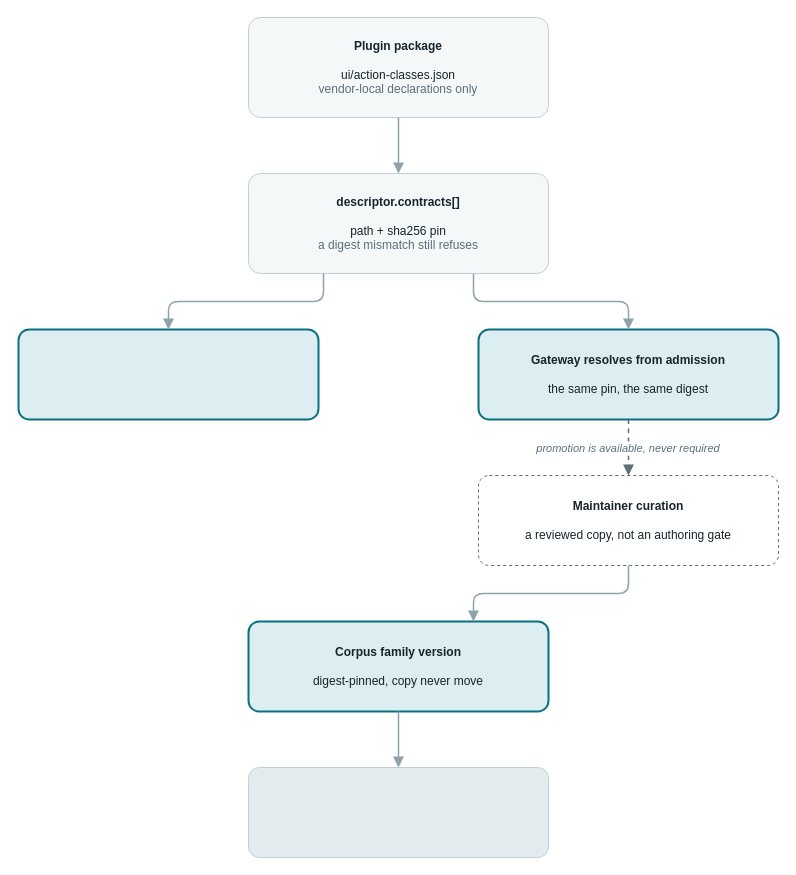
Some shapes in this 796 by 875 pixel diagram are drawn without their labels. The centre of each missing label's shape, as x and y in pixels:
Every host, every device no upstream request was needed: point 398,812
SDK resolves from the project derive-ui · verify-ui: point 168,374
